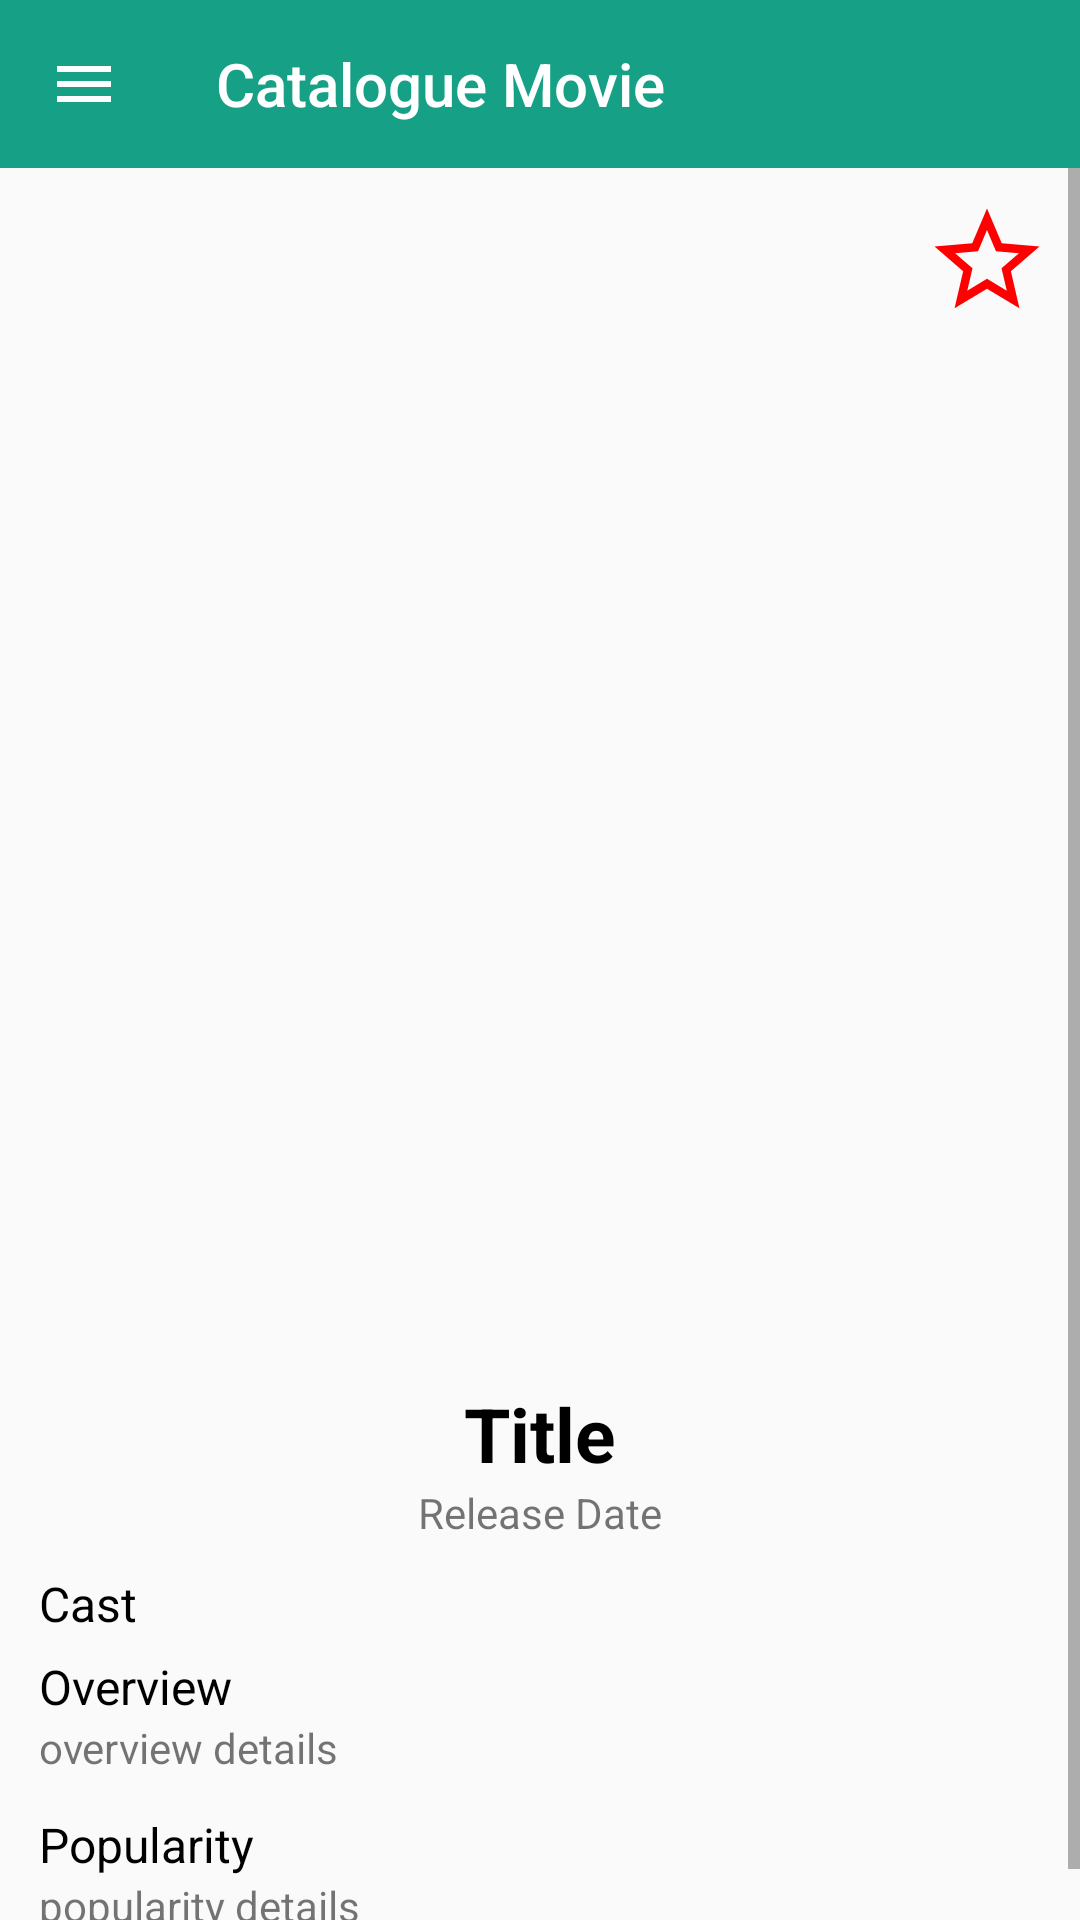

Icons on this 1080*1920 Android screen, each with the point to tap as point (x, y):
star border: point (987, 258)
